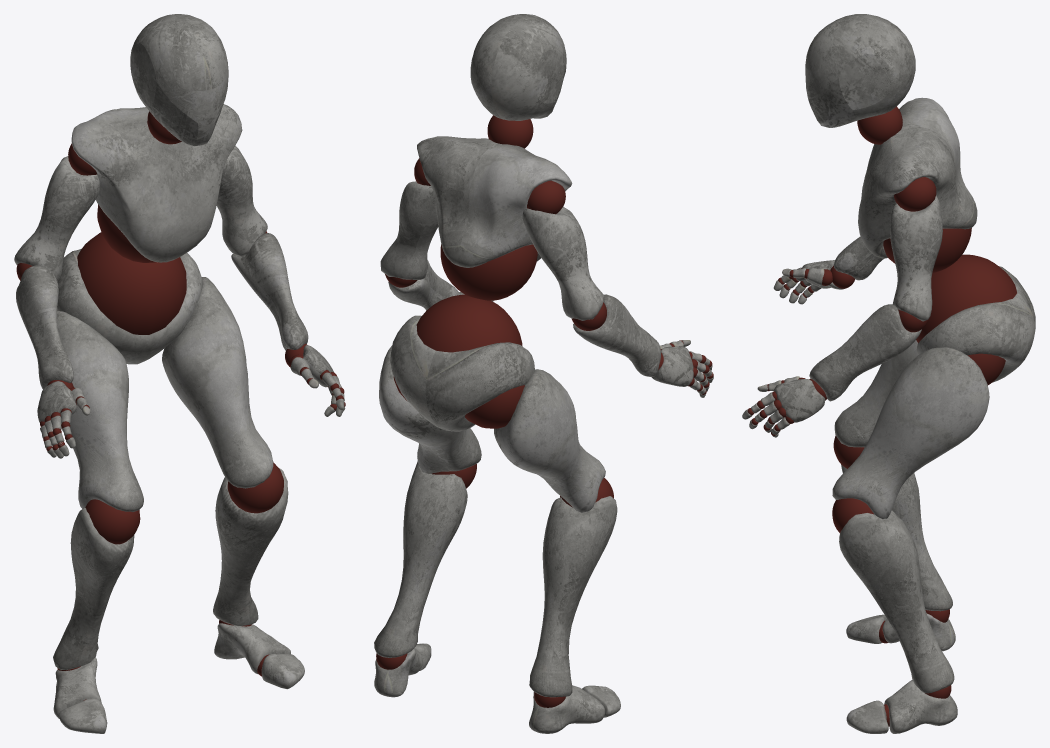
Rendered from goalkeeper.obj.
3 renders of one model, left to right at view 1: azimuth 30°, elevation 25°; view 2: azimuth 150°, elevation 25°; view 3: azimuth 270°, elevation 25°, orthographic. The views are drawn at different scales.
Visible parts, largest first — view 1: Beta_Surface, Beta_Joints; view 2: Beta_Surface, Beta_Joints; view 3: Beta_Surface, Beta_Joints.
Boxes of the visible parts, x1=… form: Beta_Surface: x1=14, y1=14, x2=345, y2=733; Beta_Joints: x1=16, y1=111, x2=345, y2=700; Beta_Surface: x1=374, y1=14, x2=713, y2=733; Beta_Joints: x1=376, y1=115, x2=713, y2=707; Beta_Surface: x1=742, y1=14, x2=1035, y2=733; Beta_Joints: x1=747, y1=106, x2=1016, y2=726.
Bounding box in the file's own units: 0.7264 × 1.64 × 0.6598.
